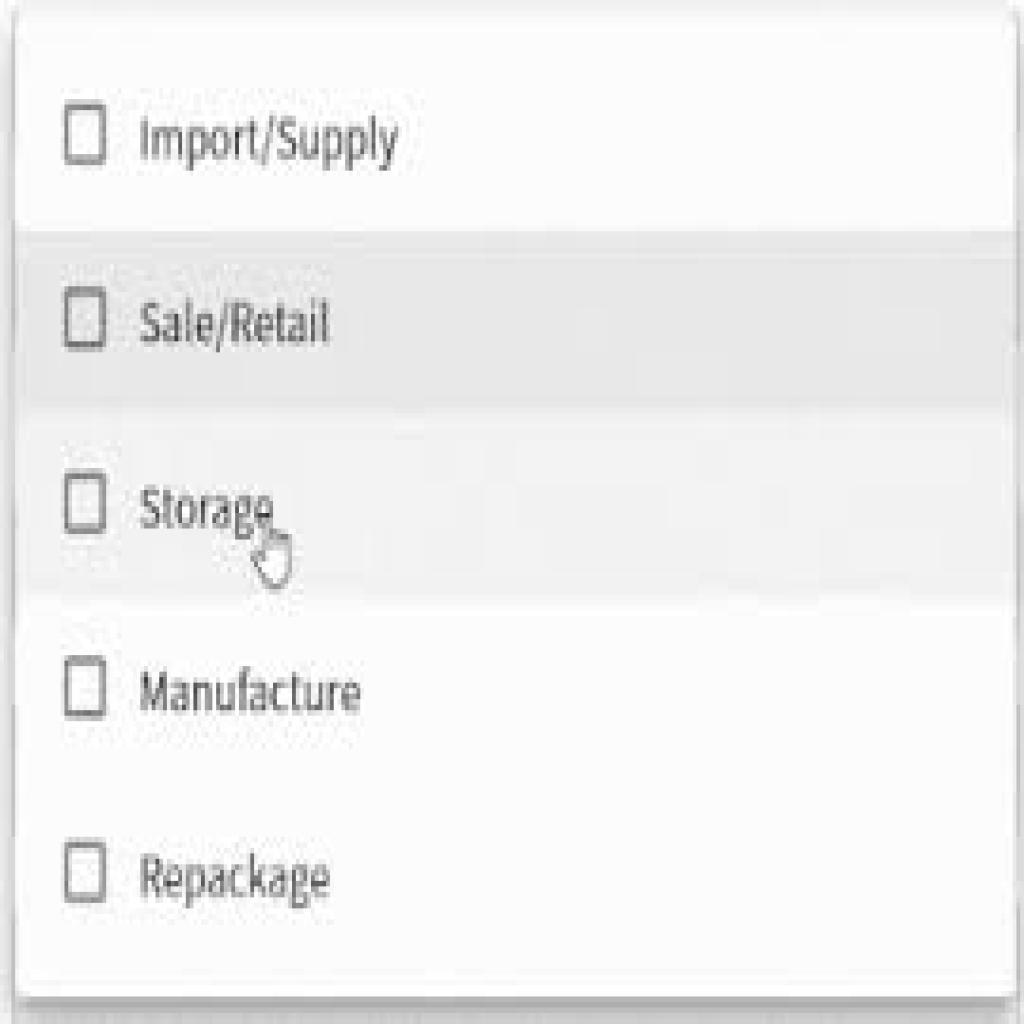checkbox: (64, 842, 108, 903), (64, 105, 106, 168), (66, 288, 107, 350), (66, 657, 107, 719), (66, 473, 108, 532)
label: (134, 105, 412, 180), (137, 661, 362, 730), (140, 845, 339, 918), (138, 292, 343, 353), (138, 477, 281, 540)
